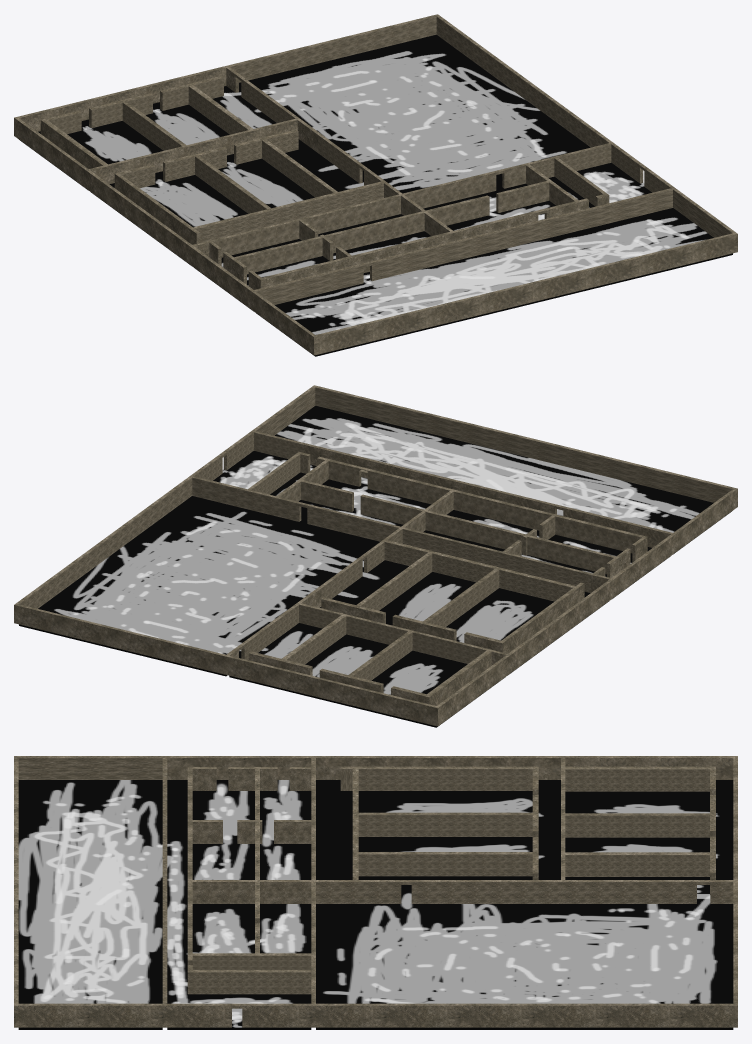
File: building.glb
3 renders of one model, top to bottom at view 1: azimuth 30°, elevation 25°; view 2: azimuth 150°, elevation 25°; view 3: azimuth 270°, elevation 25°, orthographic. The views are drawn at different scales.
Parts seen in each view (by area): view 1: floor, walls, outside_walls, office_rooms_walls, closet_walls, gym_walls, corridoor1, female_dormitory_walls, female_showers_walls, male_dormitory_walls, male_showers_walls, entry_walls (+3 smaller); view 2: floor, walls, outside_walls, office_rooms_walls, closet_walls, gym_walls, corridoor1, female_dormitory_walls, female_showers_walls, male_dormitory_walls, male_showers_walls, female_dormitory_entry (+3 smaller); view 3: floor, walls, outside_walls, gym_walls, office_rooms_walls, female_dormitory_entry, female_dormitory_walls, female_showers_walls, male_dormitory_walls, male_showers_walls, closet_walls, male_dormitory_entry (+2 smaller).
Part boxes in pixels (box(x1,y1,x2,y2)): floor: box(20, 34, 732, 356); walls: box(14, 14, 737, 337); outside_walls: box(14, 118, 737, 355); office_rooms_walls: box(213, 165, 574, 274); closet_walls: box(256, 189, 732, 304); gym_walls: box(230, 16, 608, 147); corridoor1: box(196, 183, 398, 242); female_dormitory_walls: box(121, 156, 266, 213); female_showers_walls: box(199, 140, 333, 197); male_dormitory_walls: box(48, 102, 181, 150); male_showers_walls: box(127, 86, 248, 134); entry_walls: box(558, 144, 670, 192); floor: box(19, 405, 731, 727); walls: box(14, 385, 737, 708); outside_walls: box(14, 489, 737, 726); office_rooms_walls: box(280, 461, 641, 574); closet_walls: box(256, 387, 732, 502); gym_walls: box(19, 477, 398, 608); corridoor1: box(388, 529, 590, 592); female_dormitory_walls: box(427, 570, 572, 626); female_showers_walls: box(360, 553, 494, 610); male_dormitory_walls: box(353, 632, 486, 680); male_showers_walls: box(287, 616, 407, 664); female_dormitory_entry: box(321, 542, 427, 598); floor: box(18, 780, 733, 1029); walls: box(14, 756, 737, 1005); outside_walls: box(14, 1005, 737, 1027); gym_walls: box(316, 882, 733, 903); office_rooms_walls: box(192, 769, 311, 923); female_dormitory_entry: box(358, 854, 532, 876); female_dormitory_walls: box(358, 769, 532, 790); female_showers_walls: box(358, 815, 532, 836); male_dormitory_walls: box(565, 769, 709, 791); male_showers_walls: box(565, 815, 709, 837); closet_walls: box(18, 758, 162, 779); male_dormitory_entry: box(565, 855, 709, 876).
Size of the model in its own units: 65.5 by 3.2 by 80.32.
15 materials, 15 textured.
